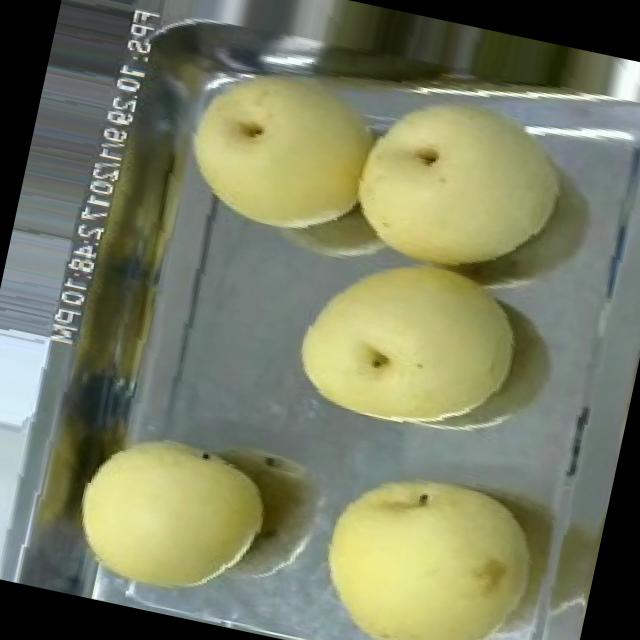Fruit: (331, 56, 590, 300), (276, 231, 542, 457), (295, 440, 560, 640), (165, 39, 402, 256), (55, 412, 284, 620)
